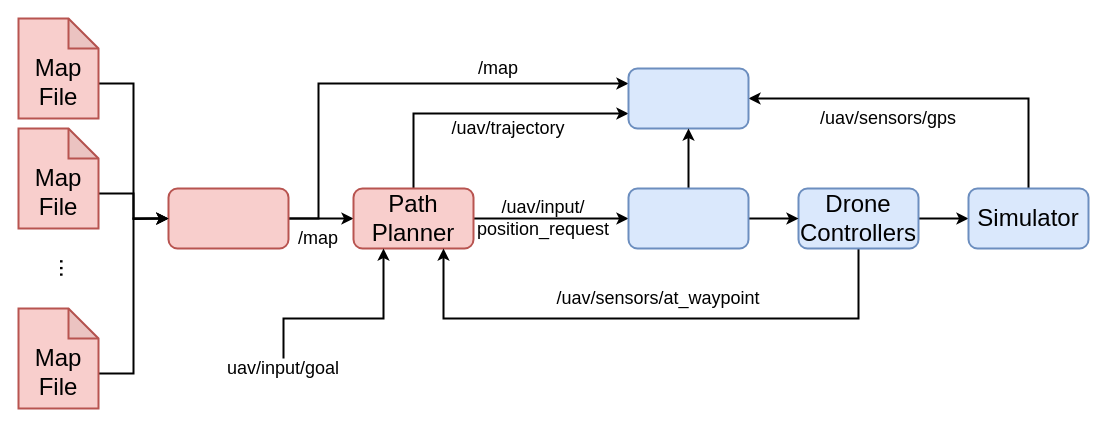
The diagram is 1106 pixels wide and 426 high, and some of its shapes have lost their labels. The centre of each missing label's shape, as x and y in pixels:
Map Server: the point at 228,218
State and Safety: the point at 688,218
Visualizer: the point at 688,98
